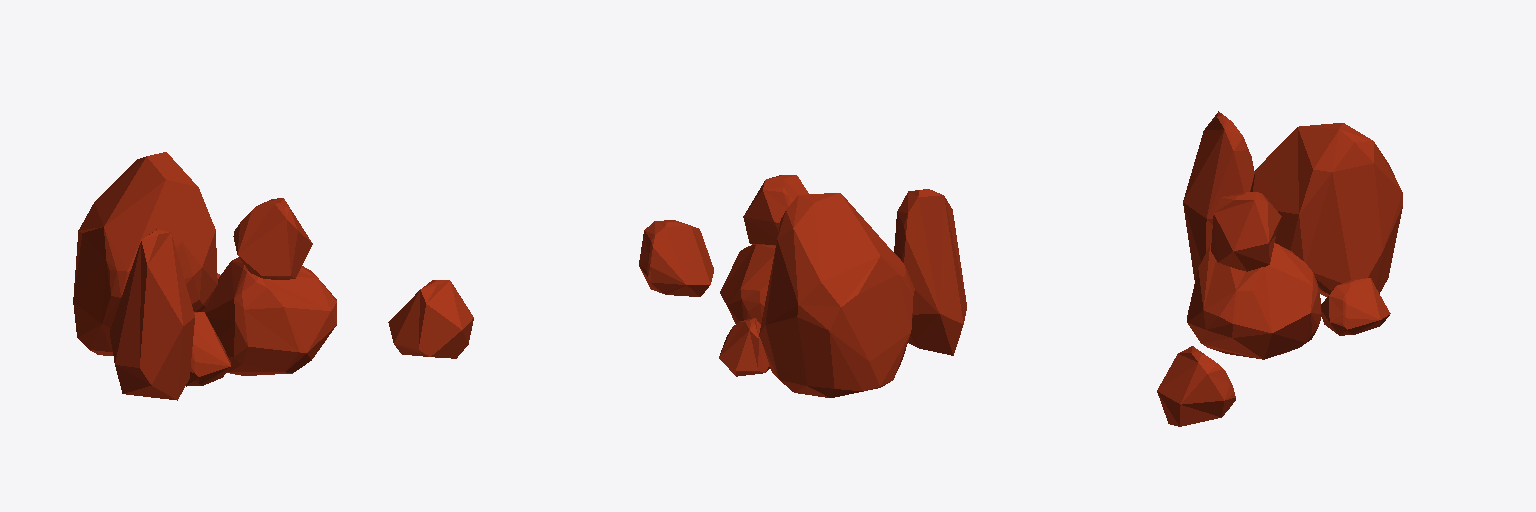
The model's file is rocks.obj.
3 renders of one model, left to right at view 1: azimuth 30°, elevation 25°; view 2: azimuth 150°, elevation 25°; view 3: azimuth 270°, elevation 25°, orthographic.
Visible parts, largest first — view 1: pasted__pPlatonic2 group2, pPlatonic2, pasted__pPlatonic1 group5, pPlatonic1, pasted__pPlatonic1 group1, pasted__pPlatonic1 group3; view 2: pasted__pPlatonic2 group2, pasted__pPlatonic1 group5, pPlatonic1, pPlatonic2, pasted__pPlatonic1 group1, pasted__pasted__pPlatonic1 pasted__group1 group4; view 3: pasted__pPlatonic2 group2, pPlatonic2, pasted__pPlatonic1 group5, pasted__pPlatonic1 group1, pPlatonic1, pasted__pasted__pPlatonic1 pasted__group1 group4.
Part boxes in pixels (x1,y1,x2,y2): pasted__pPlatonic2 group2: (73, 152, 217, 355); pPlatonic2: (201, 257, 336, 375); pasted__pPlatonic1 group5: (110, 229, 194, 400); pPlatonic1: (388, 280, 473, 358); pasted__pPlatonic1 group1: (233, 198, 312, 279); pasted__pPlatonic1 group3: (186, 312, 230, 386); pasted__pPlatonic2 group2: (759, 193, 914, 397); pasted__pPlatonic1 group5: (894, 189, 966, 355); pPlatonic1: (639, 220, 713, 296); pPlatonic2: (720, 245, 775, 323); pasted__pPlatonic1 group1: (743, 175, 808, 245); pasted__pasted__pPlatonic1 pasted__group1 group4: (719, 318, 769, 376); pasted__pPlatonic2 group2: (1250, 123, 1402, 296); pPlatonic2: (1187, 243, 1321, 359); pasted__pPlatonic1 group5: (1183, 111, 1254, 279); pasted__pPlatonic1 group1: (1211, 192, 1281, 271); pPlatonic1: (1157, 346, 1235, 426); pasted__pasted__pPlatonic1 pasted__group1 group4: (1321, 278, 1390, 335).
Size of the model in its own units: 46.49 by 25.68 by 29.44.